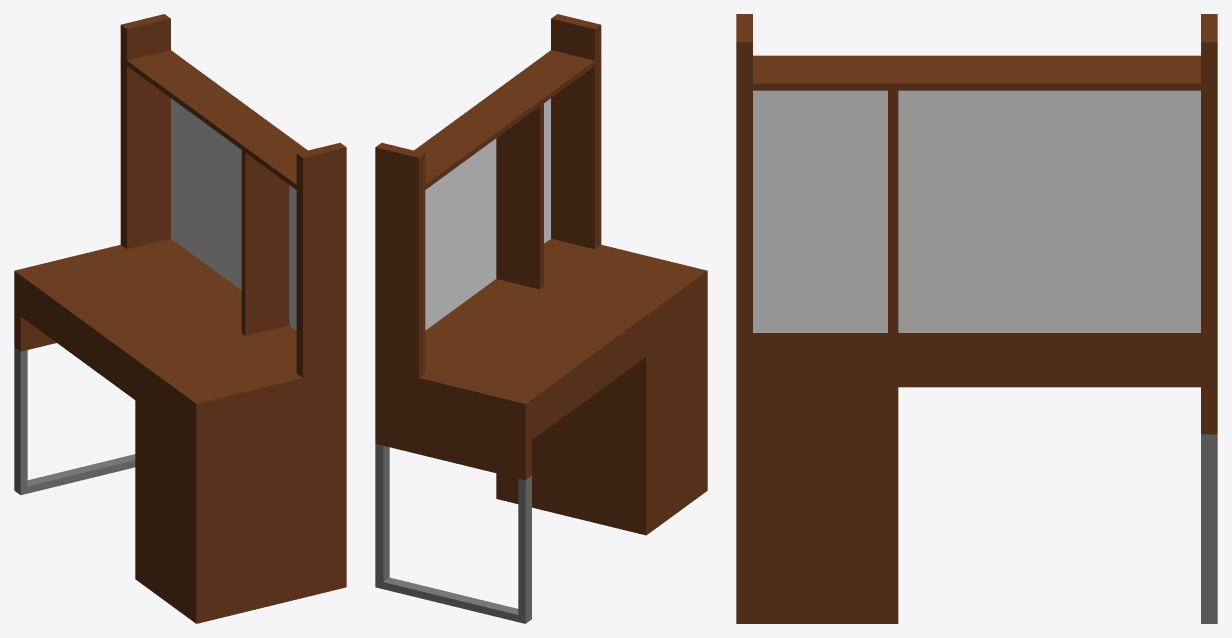
Rendered from bureau.fbx.
3 views of the same model, side by side, from view 1: azimuth 30°, elevation 25°; view 2: azimuth 150°, elevation 25°; view 3: azimuth 270°, elevation 25° (orthographic). The views are drawn at different scales.
Visible parts, largest first — view 1: Bureau; view 2: Bureau; view 3: Bureau.
Boxes of the visible parts, left/top/right/bottom form: Bureau: left=14, top=14, right=346, bottom=623; Bureau: left=375, top=14, right=707, bottom=623; Bureau: left=736, top=14, right=1217, bottom=623.
Size of the model in its own units: 50 by 140 by 105.
